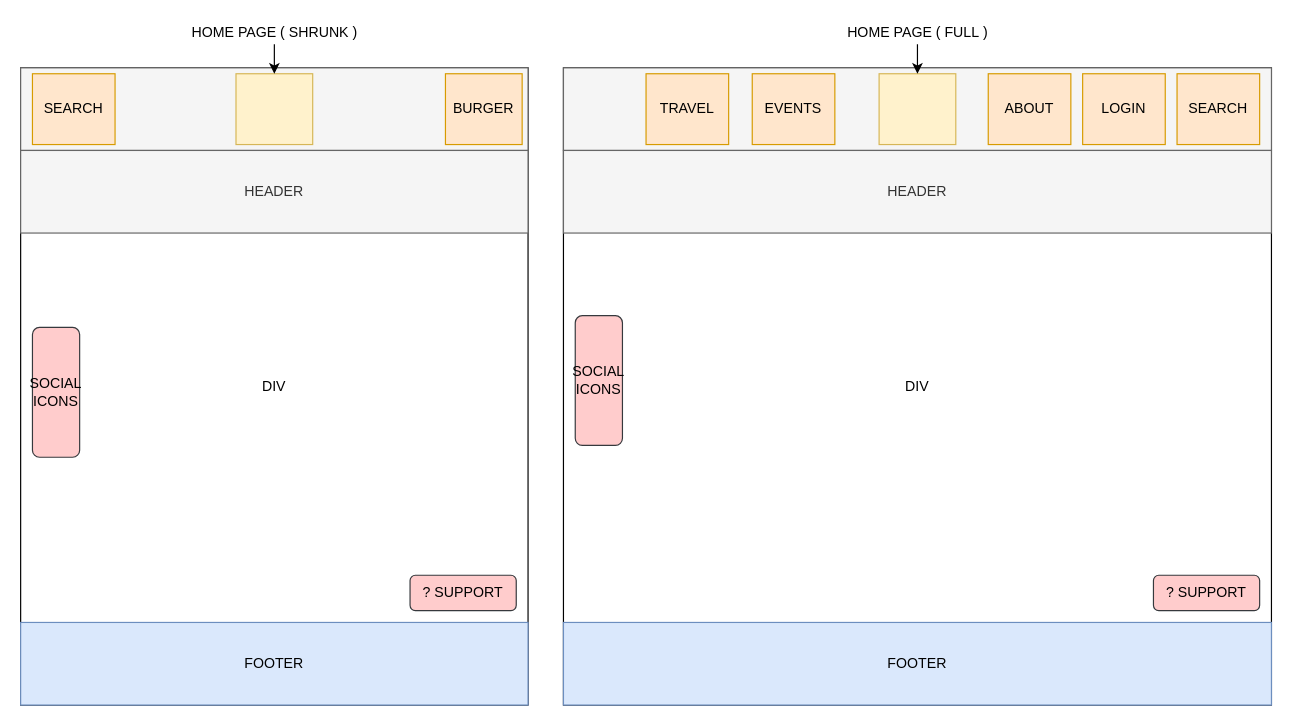
The diagram is 1292 pixels wide and 726 high, and some of its shapes have lost their labels. The shapes that lost their labels are listed below. From the top down, each one's centre as x and y in pixels, then its label:
At point (274, 109): "HOME(LOGO)".
At point (917, 109): "HOME ( LOGO)".
